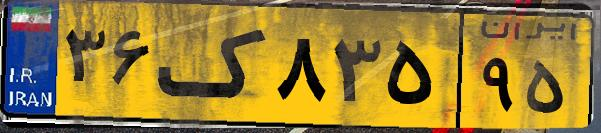3: (330, 28, 385, 110), (57, 26, 110, 100)
5: (385, 28, 445, 110), (525, 38, 570, 115)
6: (110, 28, 158, 98)
8: (270, 28, 330, 110)
9: (475, 38, 525, 113)
ک: (158, 12, 270, 120)
